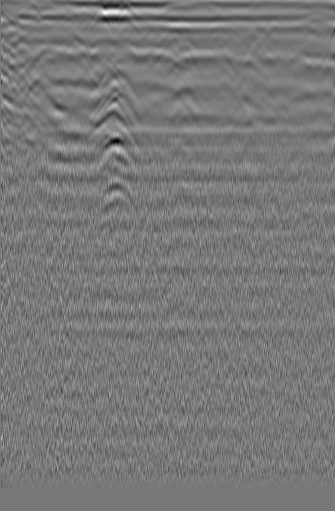가스: (92, 174, 135, 208)
상수: (11, 31, 37, 57)
오수: (291, 25, 324, 50)
우수: (151, 37, 184, 73)
